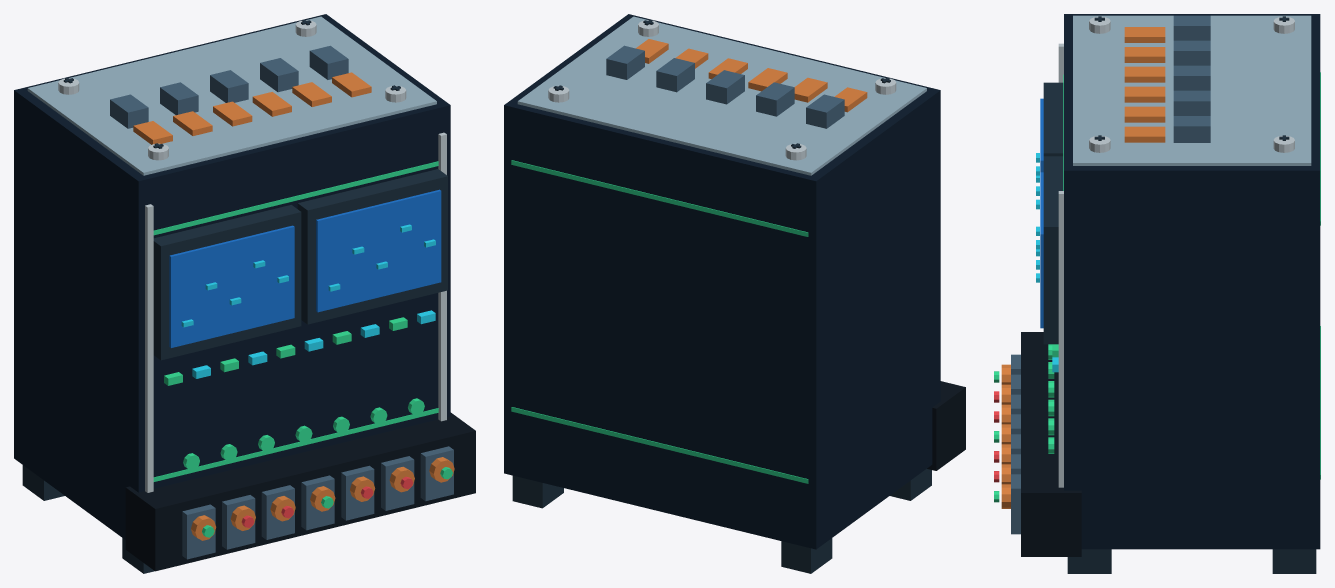
The model's file is 58_L76_Regulated5VControlSupply.fbx.
3 views of the same model, side by side, from view 1: azimuth 30°, elevation 25°; view 2: azimuth 150°, elevation 25°; view 3: azimuth 270°, elevation 25° (orthographic). The views are drawn at different scales.
Parts seen in each view (by area): view 1: Regulated5VControlSupply; view 2: Regulated5VControlSupply; view 3: Regulated5VControlSupply.
Part boxes in pixels (bbox=[...]): Regulated5VControlSupply: bbox=[14, 14, 475, 573]; Regulated5VControlSupply: bbox=[504, 14, 965, 573]; Regulated5VControlSupply: bbox=[994, 14, 1320, 573].
Bounding box in the file's own units: 113 × 140 × 97.04.
